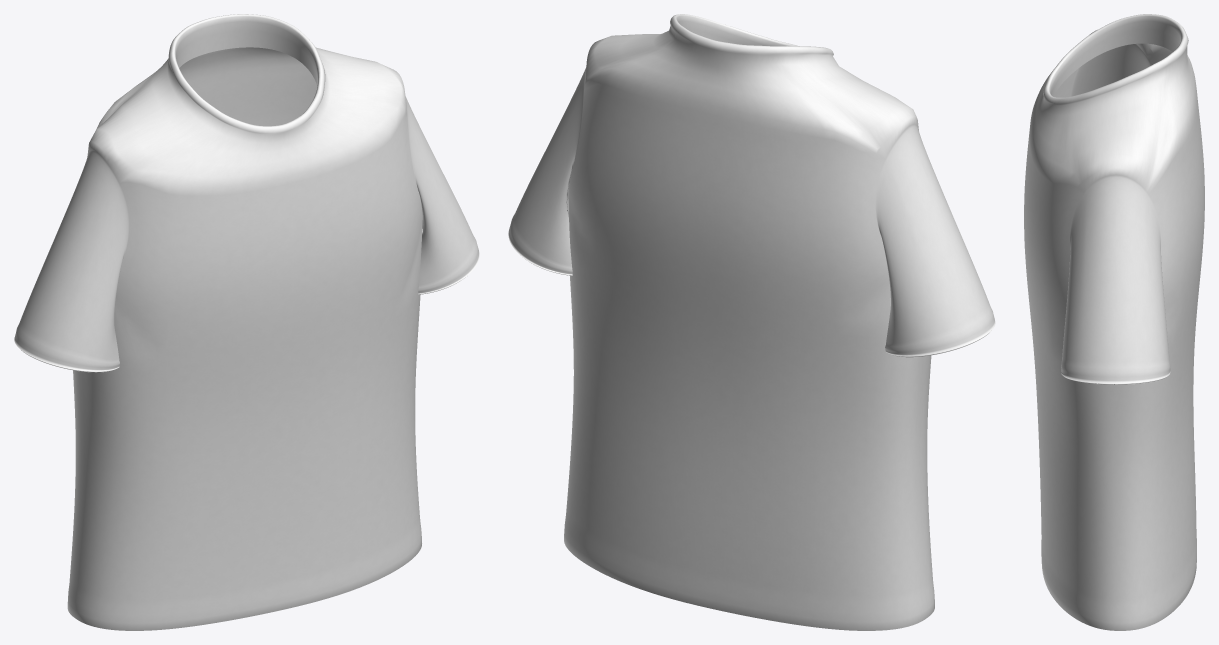
Rendered from regular_tshirt.glb.
The picture shows the model from 3 angles, left to right: view 1: azimuth 30°, elevation 25°; view 2: azimuth 150°, elevation 25°; view 3: azimuth 270°, elevation 25°; orthographic projection. The views are drawn at different scales.
Visible parts, largest first — view 1: RegularTShirt; view 2: RegularTShirt; view 3: RegularTShirt.
Boxes of the visible parts, bbox=[...] form: RegularTShirt: bbox=[14, 14, 479, 630]; RegularTShirt: bbox=[508, 14, 995, 630]; RegularTShirt: bbox=[1024, 14, 1204, 630].
Bounding box in the file's own units: 0.6423 × 0.7346 × 0.2326.
Materials: 1 (1 with a texture image).
